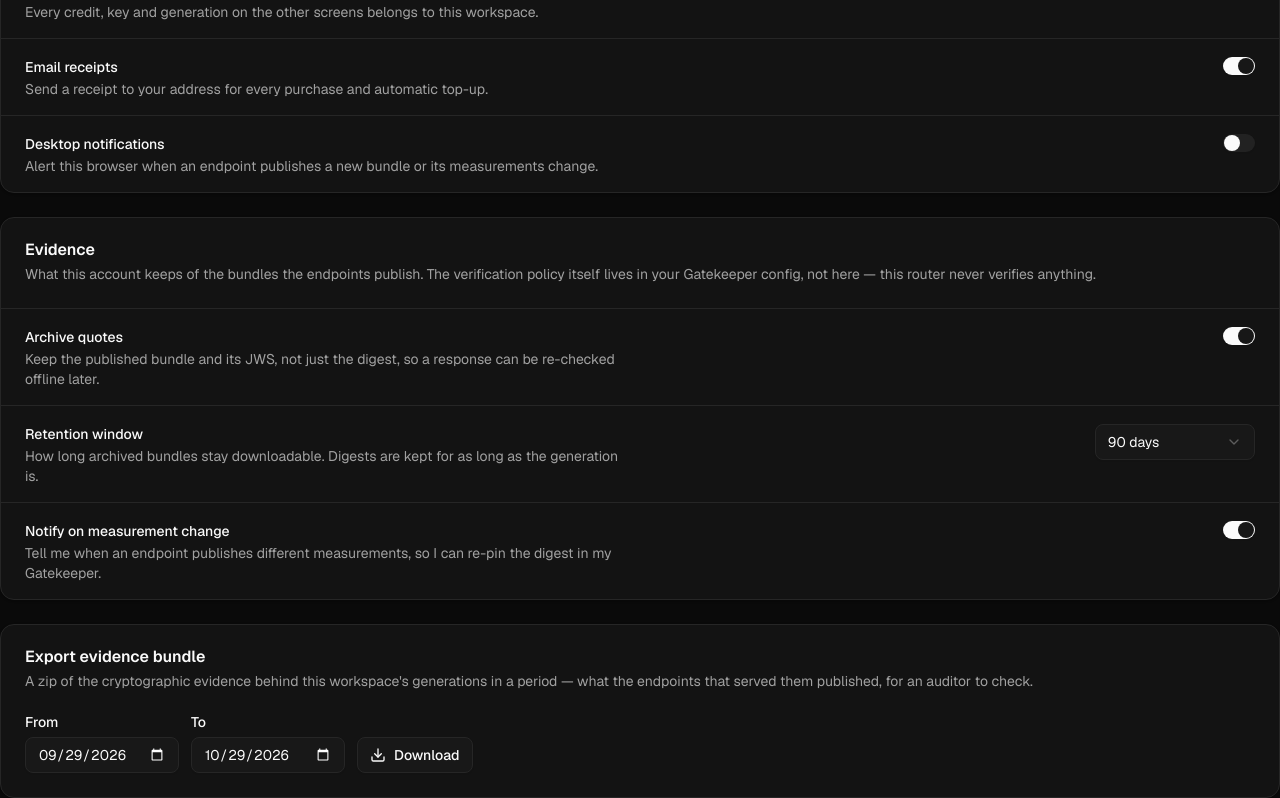
Test: PreferencesScreen › refuses a range that ends before it starts, without asking the API
(page scrolled)
Clear the date field labelled "From" at x=102, y=755, box [25,737,179,773]
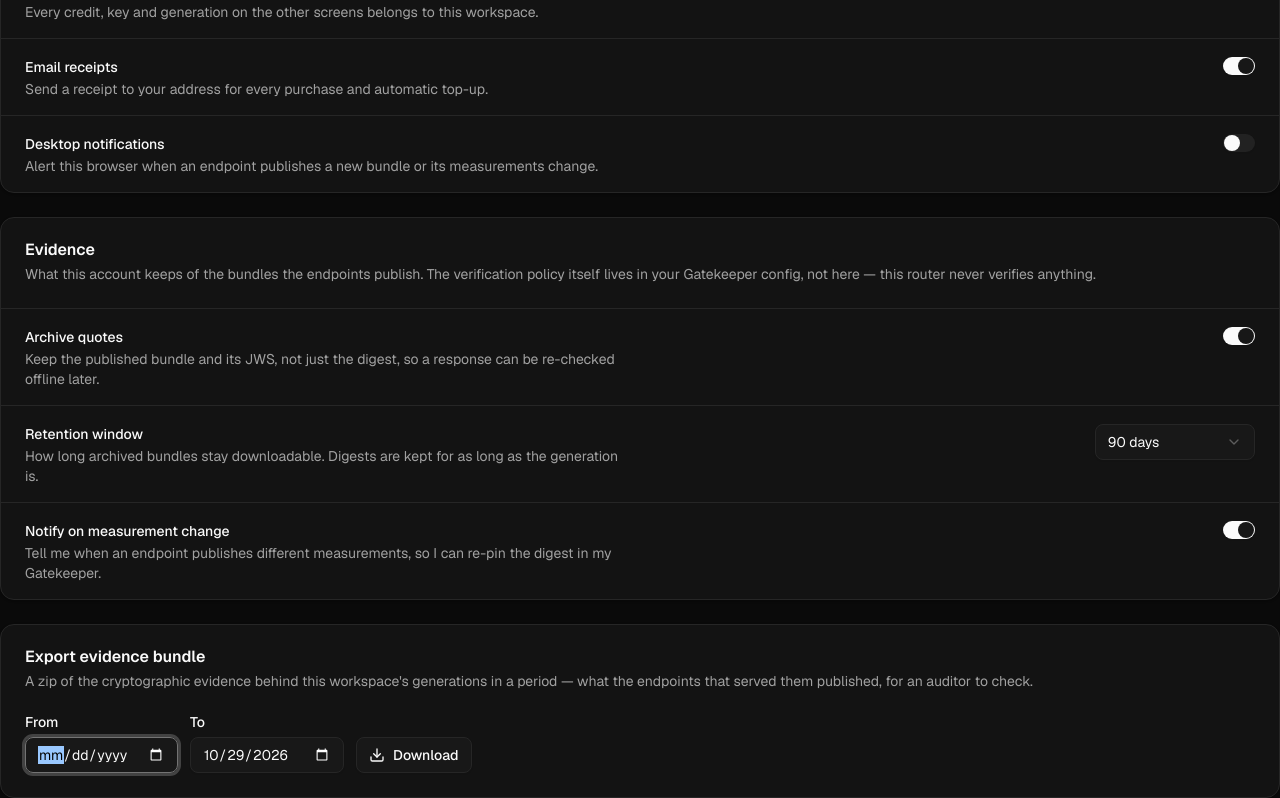
Type "2026-08-31" into the date field labelled "From" at x=102, y=755, box [25,737,178,773]
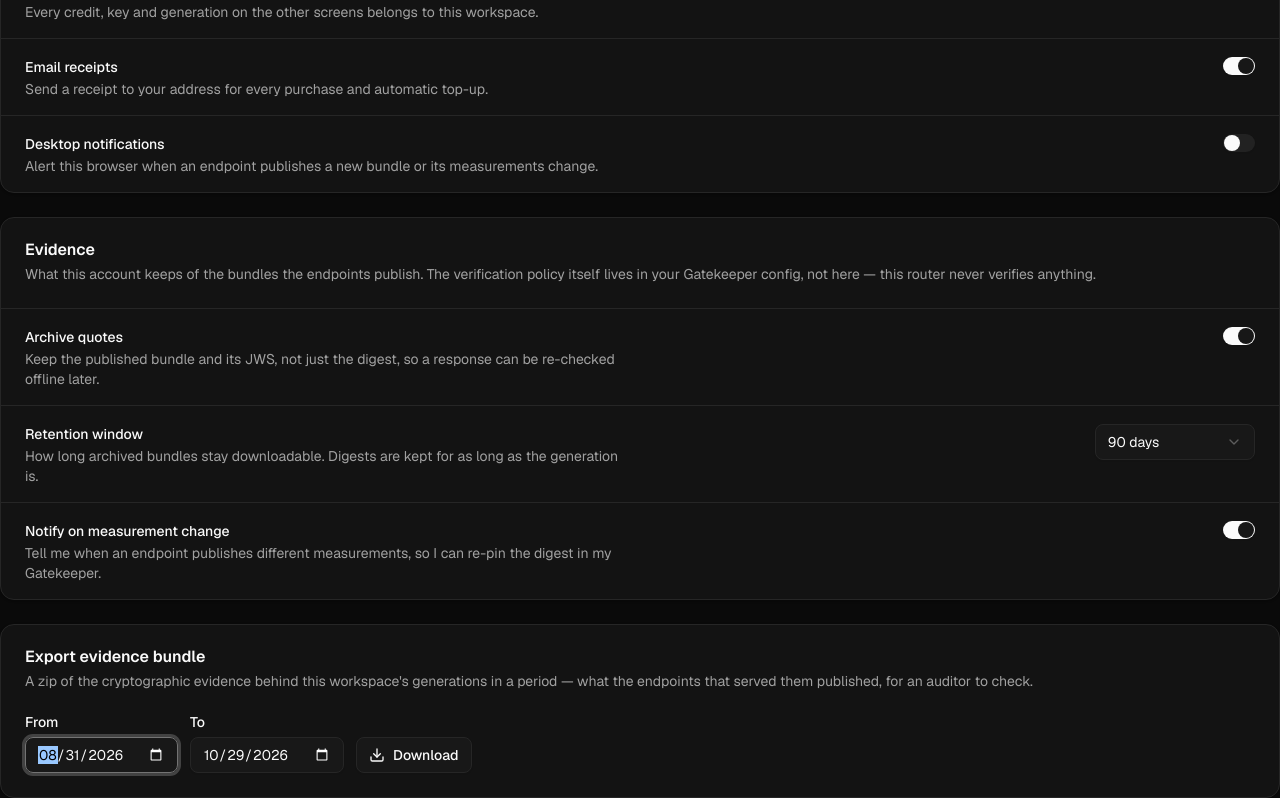
Clear the date field labelled "To" at x=267, y=755, box [190,737,344,773]
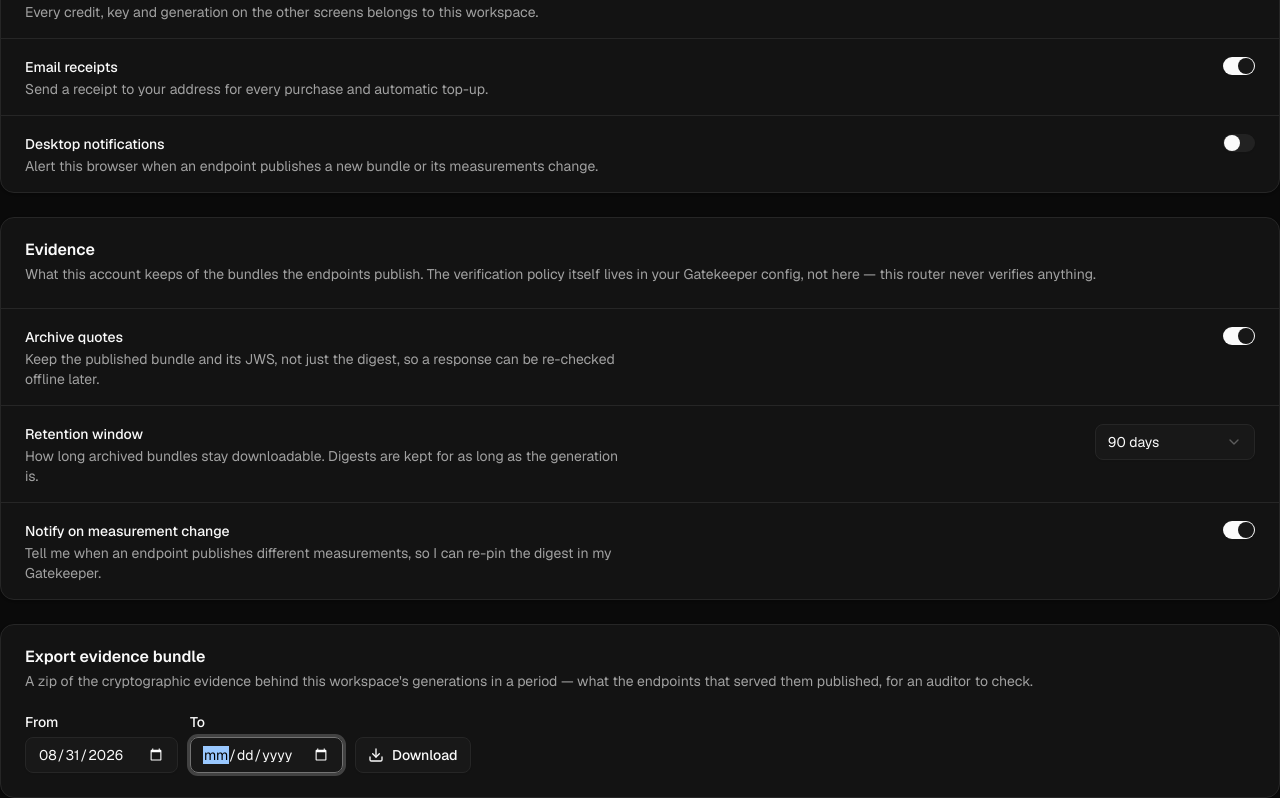
Type "2026-08-01" into the date field labelled "To" at x=266, y=755, box [190,737,343,773]
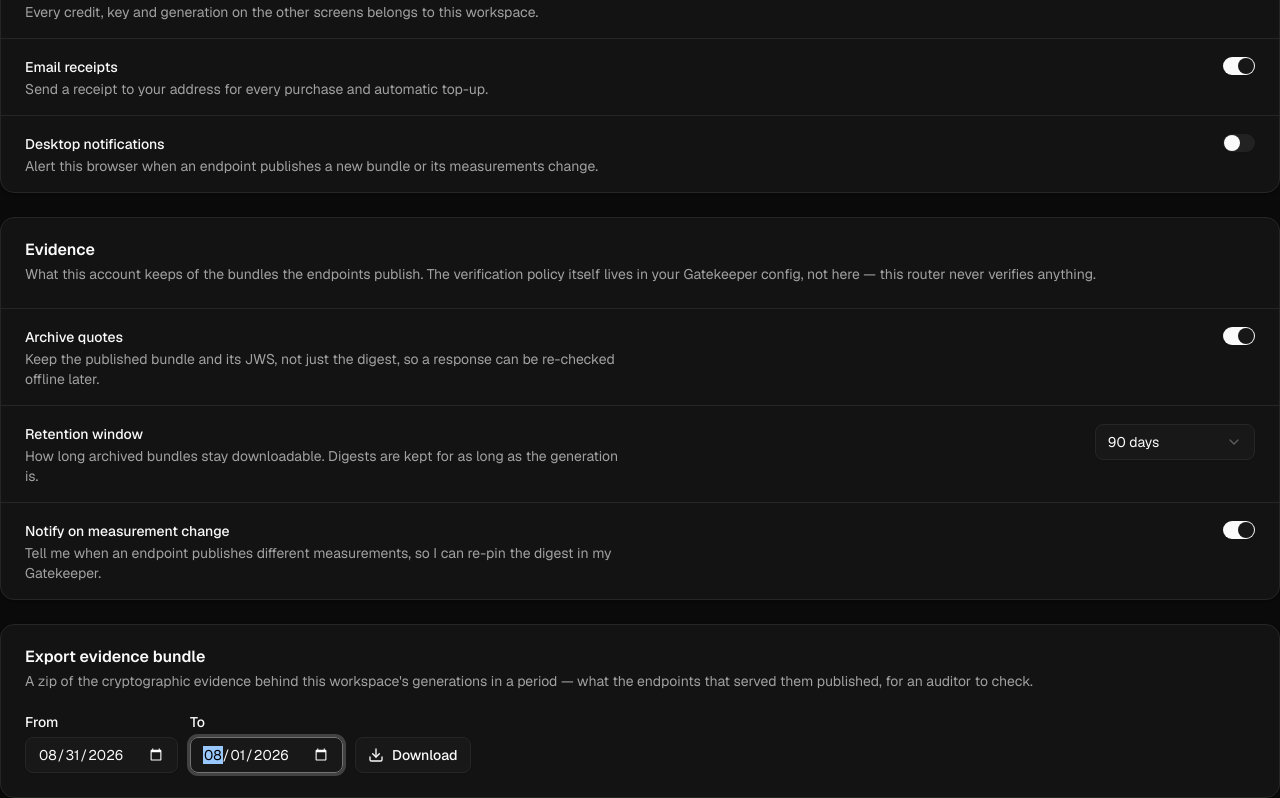
Click the button "Download" at x=413, y=755, box [355,737,471,773]
(page scrolled)
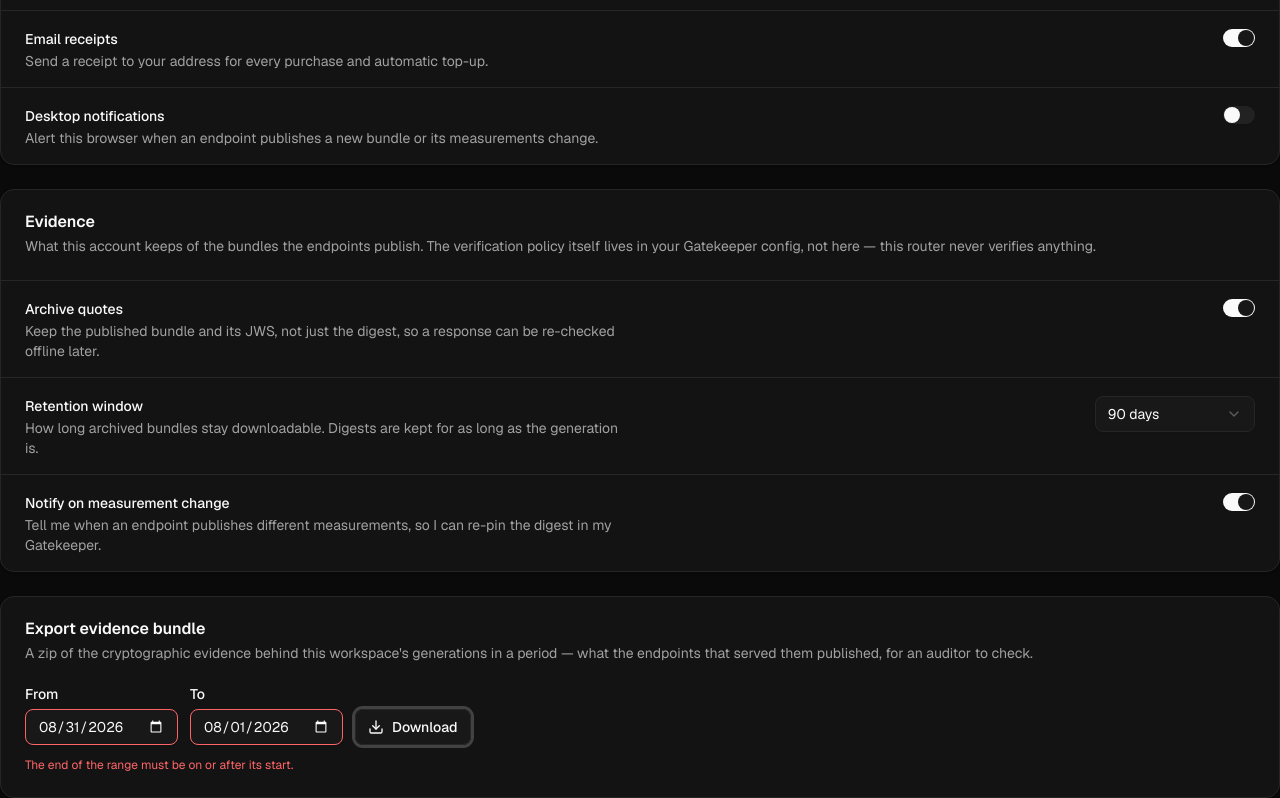
Check: the message reads "The end of the range must be on or after its start.", box [25,757,293,773]
